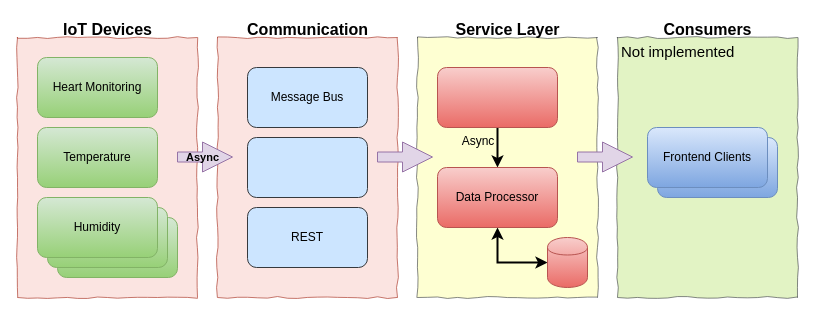
The diagram is 815 pixels wide and 315 high, and some of its shapes have lost their labels. The shapes that lost their labels are listed below. From the top down, each one's box as (x1, y1, x2, y2) in pixels, then its label:
(436, 66, 558, 128): Receiver
(246, 136, 368, 198): GRPC
